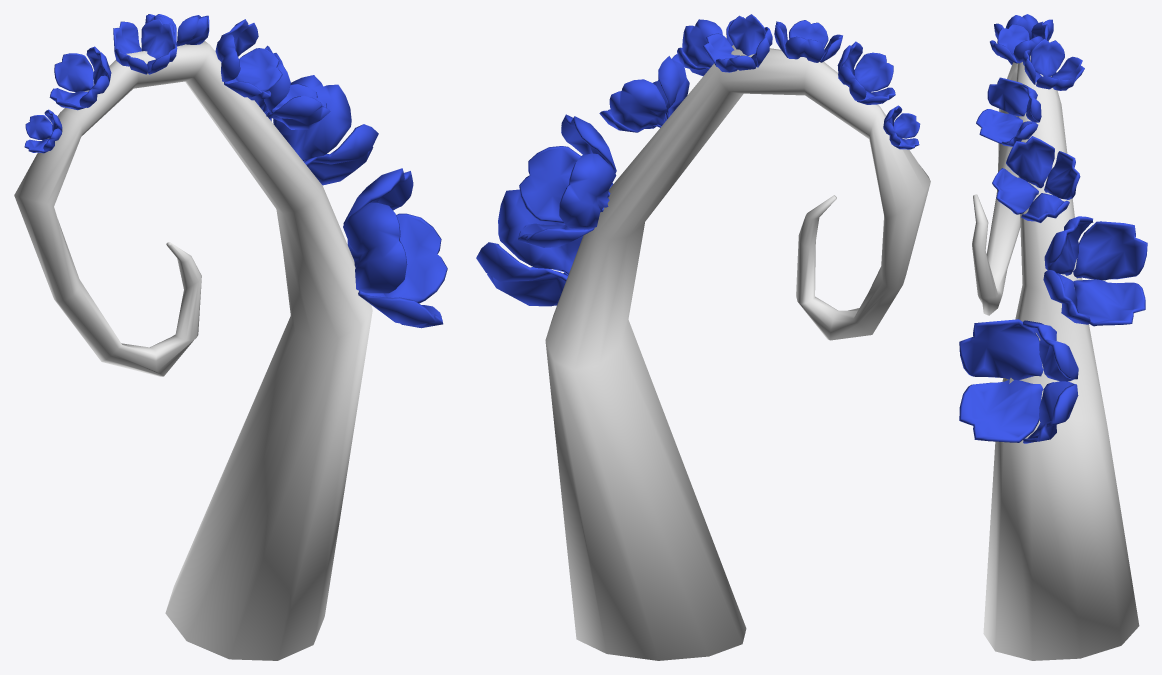
Rendered from curledplanttTR.fbx.
The picture shows the model from 3 angles, left to right: view 1: azimuth 30°, elevation 25°; view 2: azimuth 150°, elevation 25°; view 3: azimuth 270°, elevation 25°; orthographic projection. The views are drawn at different scales.
Parts seen in each view (by area): view 1: Cylinder.003; view 2: Cylinder.003; view 3: Cylinder.003.
Boxes of the visible parts, bbox=[...] form: Cylinder.003: bbox=[14, 14, 447, 660]; Cylinder.003: bbox=[476, 14, 930, 660]; Cylinder.003: bbox=[959, 14, 1147, 660].
Size of the model in its own units: 599 by 840 by 257.
